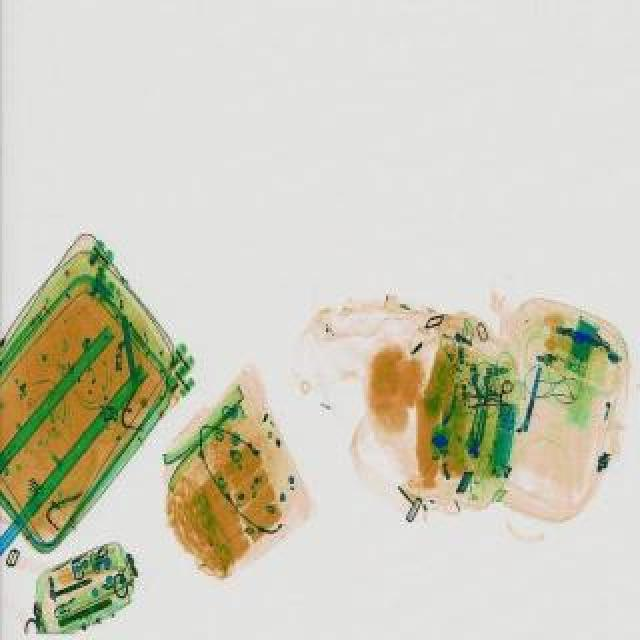pliers: (468, 378, 516, 414)
